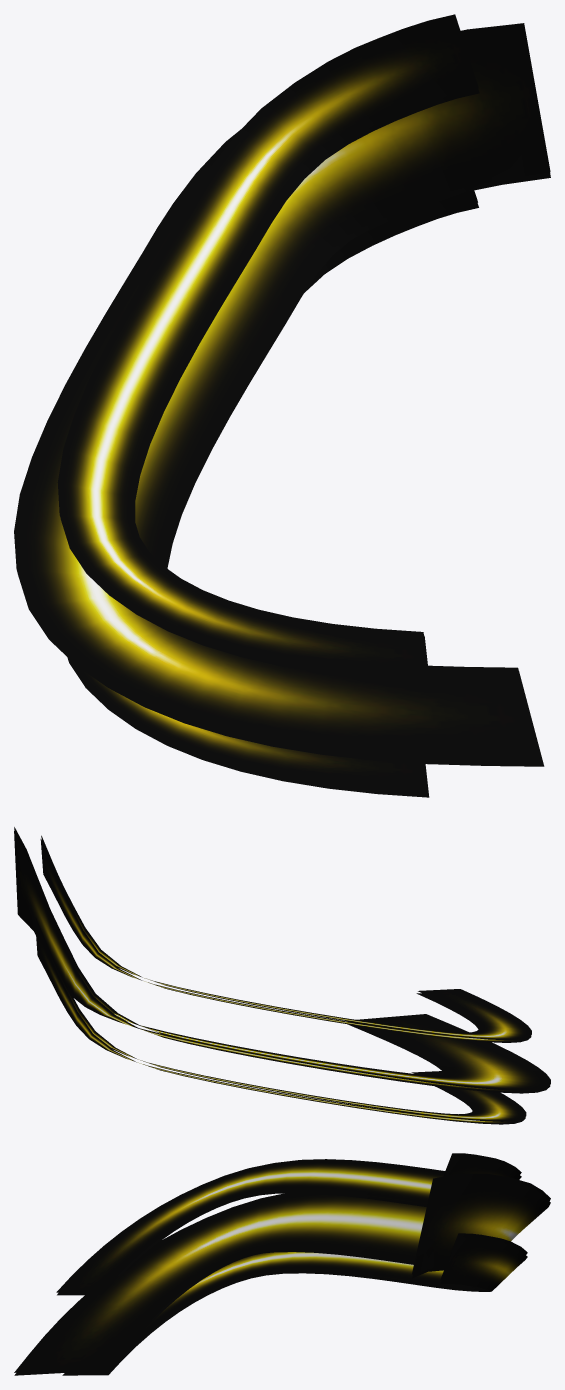
Rendered from effect_baihu_1.FBX.
3 renders of one model, top to bottom at view 1: azimuth 30°, elevation 25°; view 2: azimuth 150°, elevation 25°; view 3: azimuth 270°, elevation 25°, orthographic. The views are drawn at different scales.
Parts seen in each view (by area): view 1: effect_baihu_2_1, effect_baihu_2_2, effect_baihu_2_3, effect_baihu_1_1, effect_baihu_1_2, effect_baihu_1_3; view 2: effect_baihu_2_1, effect_baihu_1_1, effect_baihu_2_2, effect_baihu_2_3, effect_baihu_1_2, effect_baihu_1_3; view 3: effect_baihu_2_1, effect_baihu_2_2, effect_baihu_1_1, effect_baihu_2_3, effect_baihu_1_3, effect_baihu_1_2.
Part boxes in pixels (x1,y1,x2,y2): effect_baihu_2_1: [14, 23, 550, 763]; effect_baihu_2_2: [57, 14, 478, 679]; effect_baihu_2_3: [68, 190, 477, 794]; effect_baihu_1_1: [18, 144, 550, 766]; effect_baihu_1_2: [60, 88, 479, 683]; effect_baihu_1_3: [67, 203, 478, 797]; effect_baihu_2_1: [14, 827, 550, 1090]; effect_baihu_1_1: [14, 830, 550, 1093]; effect_baihu_2_2: [41, 835, 531, 1040]; effect_baihu_2_3: [35, 917, 526, 1121]; effect_baihu_1_2: [40, 839, 531, 1042]; effect_baihu_1_3: [35, 920, 525, 1124]; effect_baihu_2_1: [14, 1173, 550, 1372]; effect_baihu_2_2: [56, 1153, 521, 1292]; effect_baihu_1_1: [14, 1177, 550, 1375]; effect_baihu_2_3: [73, 1233, 527, 1372]; effect_baihu_1_3: [62, 1237, 527, 1375]; effect_baihu_1_2: [57, 1157, 521, 1295].
Size of the model in its own units: 244 by 179 by 268.
Materials: 1 (1 with a texture image).
